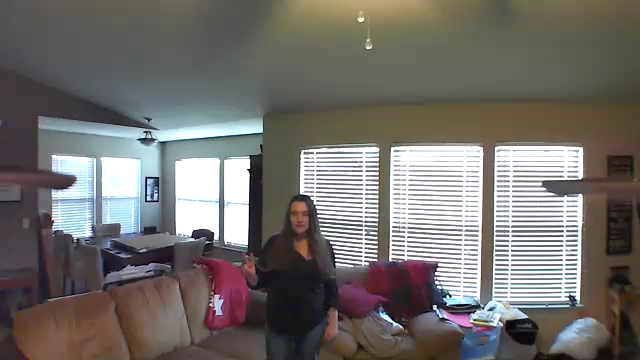peace: (232, 245, 264, 283)
